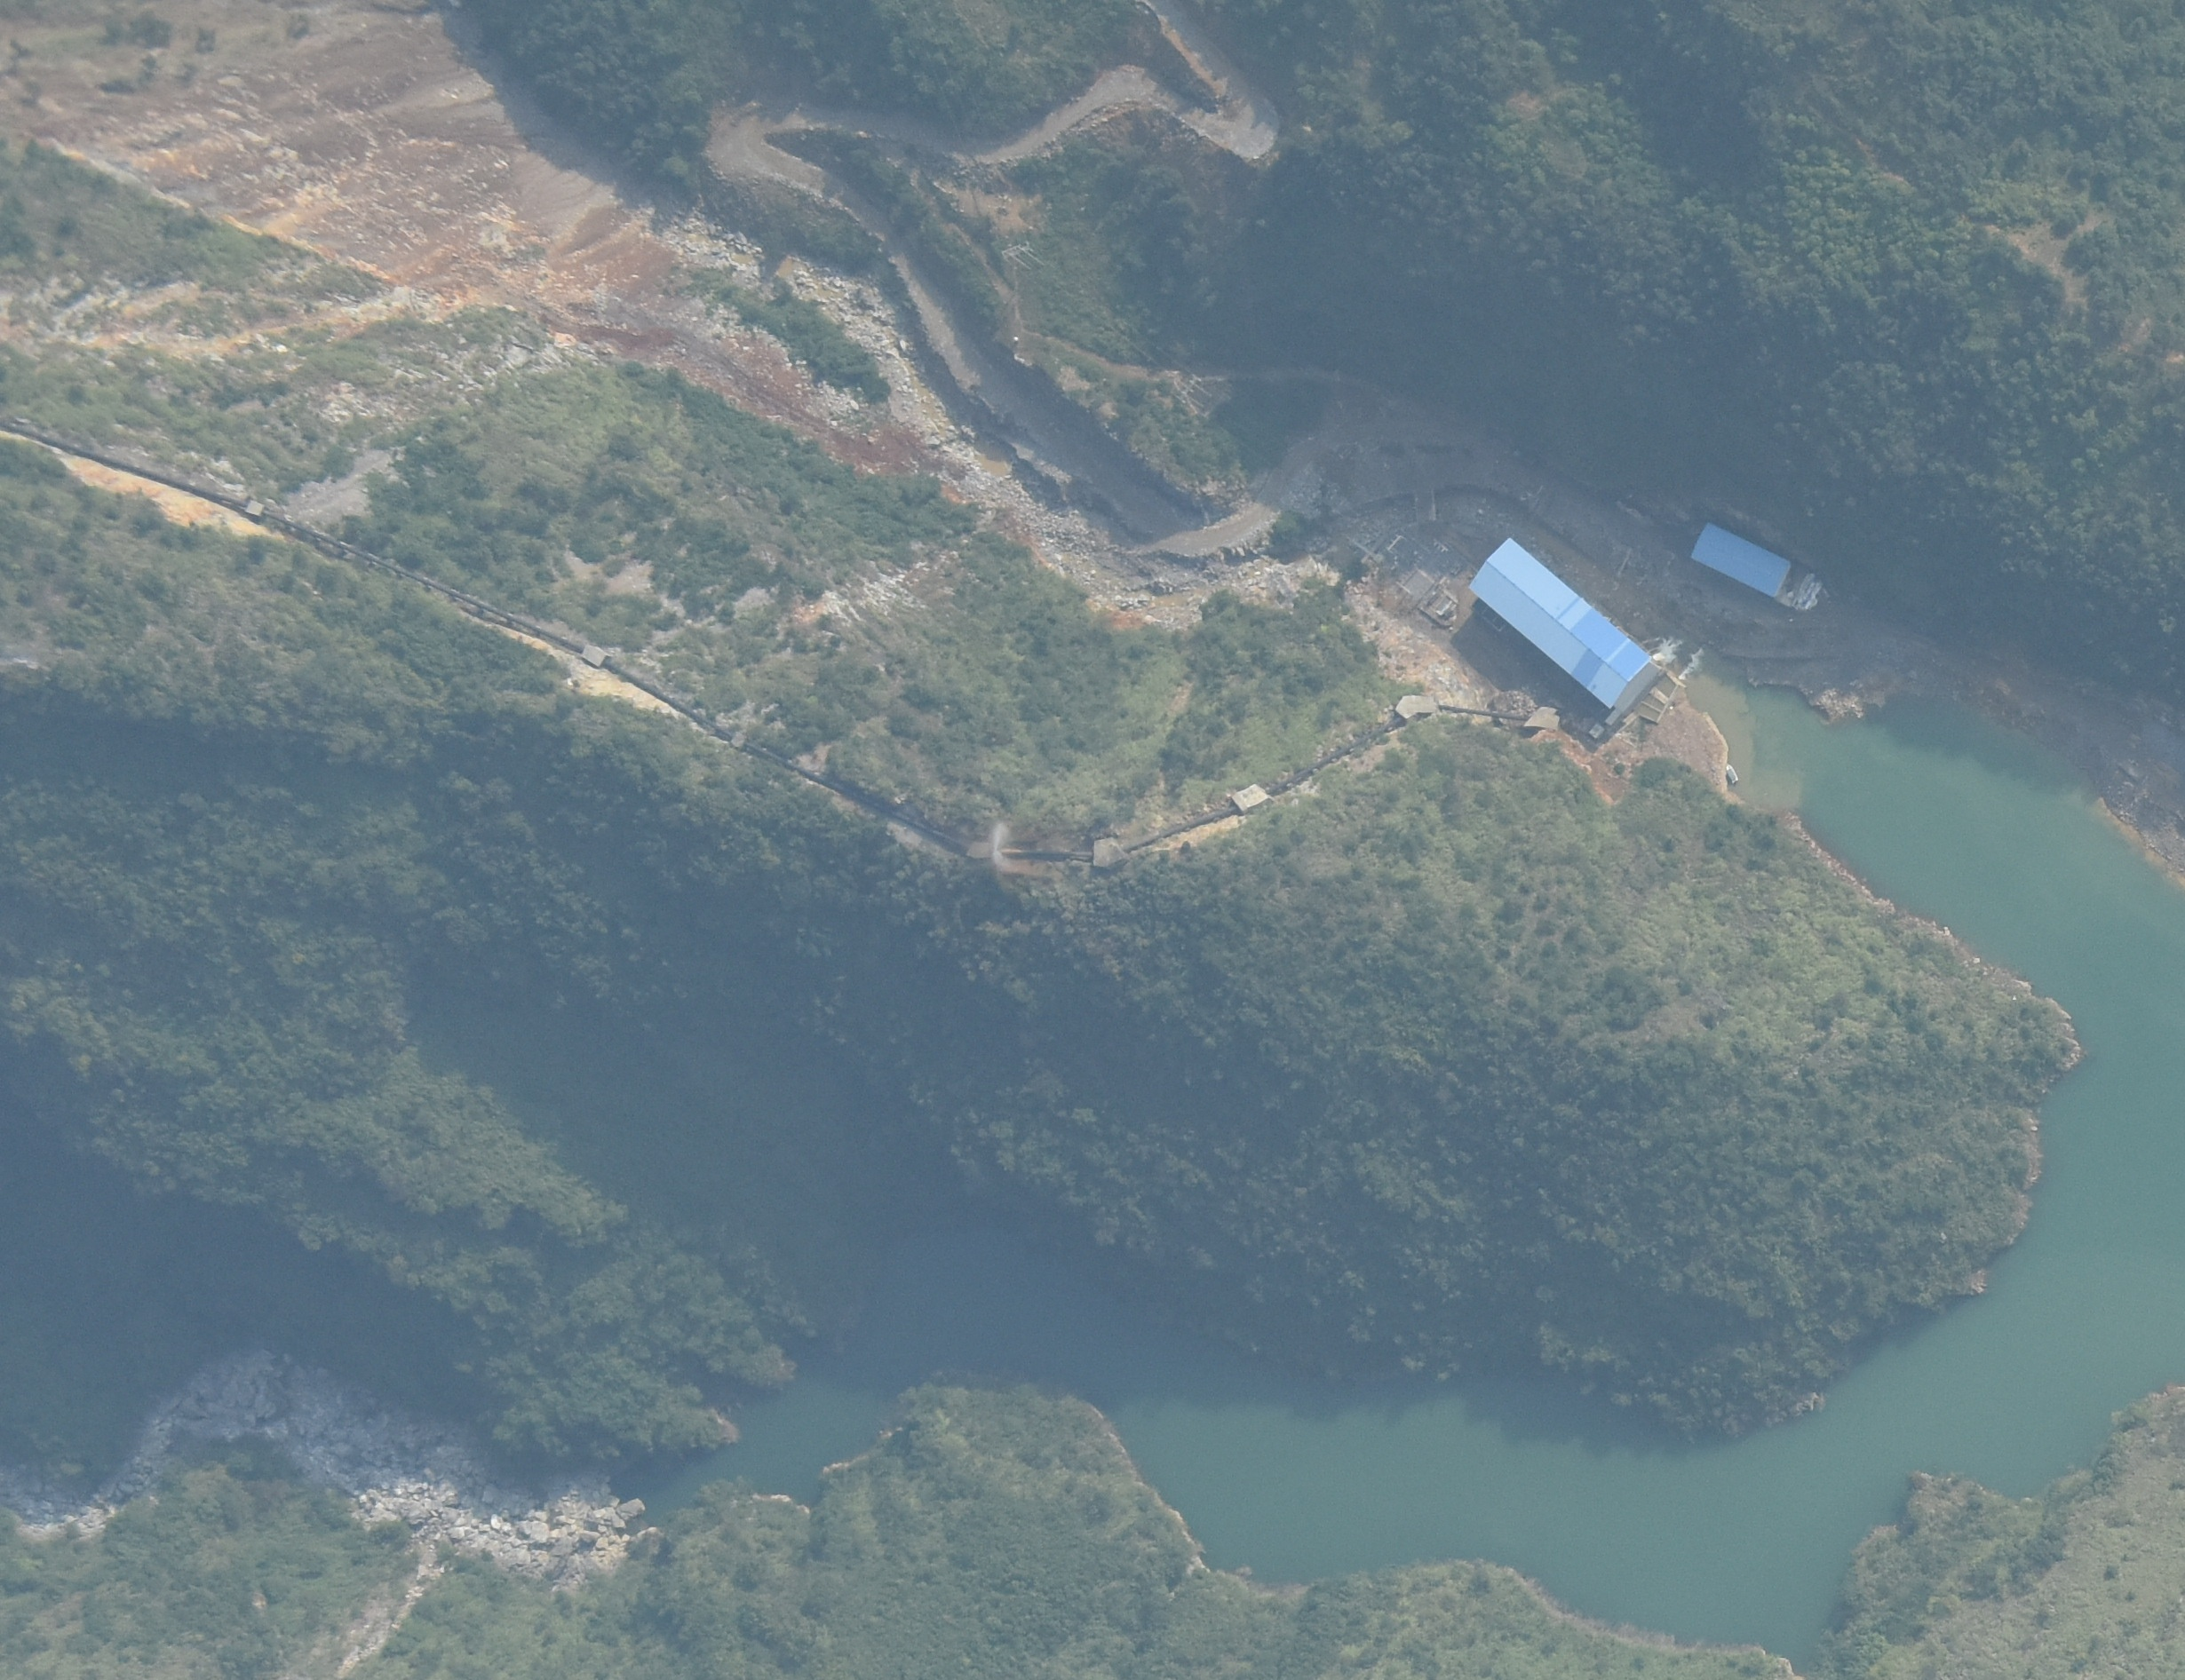prefabricated-house: (1454, 537, 1663, 711), (1693, 507, 1794, 606)
quarry: (20, 1333, 648, 1582)
